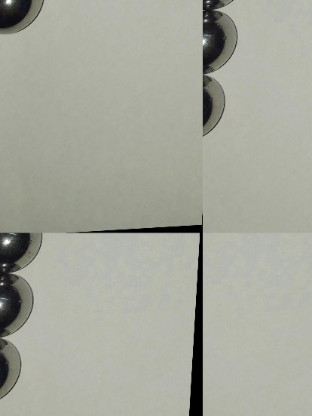ironball: (0, 273, 41, 340), (204, 8, 245, 74), (204, 74, 234, 144), (0, 0, 56, 36), (0, 230, 44, 269), (0, 343, 25, 404)
